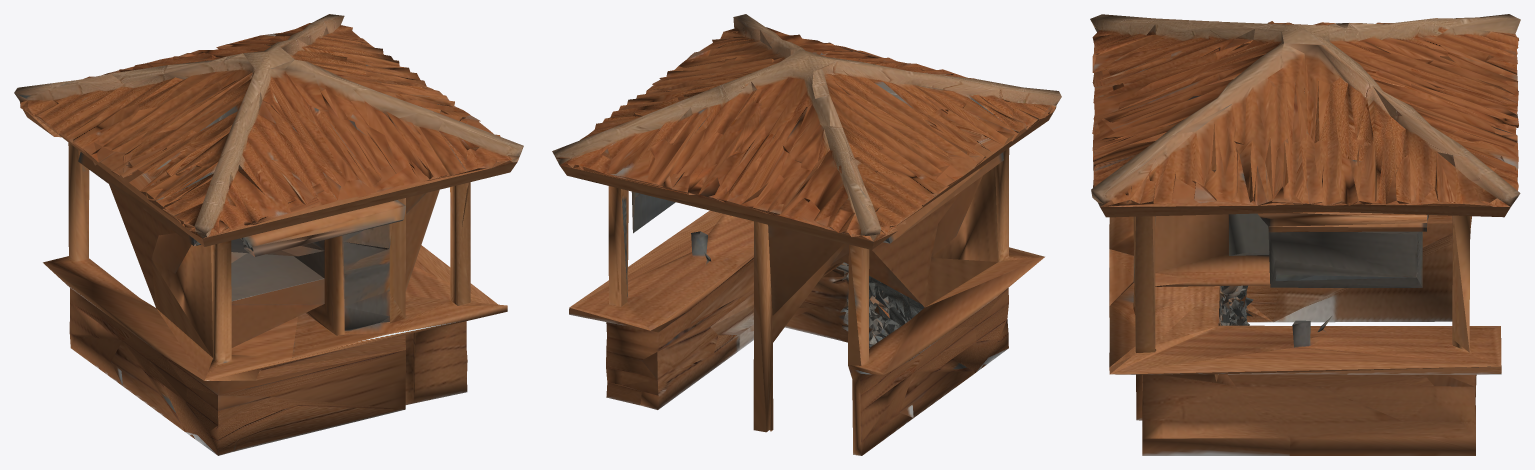
Rendered from quiosque-orla-bc__01a1b60e_LOD1.glb.
3 renders of one model, left to right at view 1: azimuth 30°, elevation 25°; view 2: azimuth 150°, elevation 25°; view 3: azimuth 270°, elevation 25°, orthographic. The views are drawn at different scales.
Parts seen in each view (by area): view 1: quiosque-orla-bc__01a1b60e_LOD1; view 2: quiosque-orla-bc__01a1b60e_LOD1; view 3: quiosque-orla-bc__01a1b60e_LOD1.
Boxes of the visible parts, bbox=[...] form: quiosque-orla-bc__01a1b60e_LOD1: bbox=[14, 14, 523, 455]; quiosque-orla-bc__01a1b60e_LOD1: bbox=[552, 14, 1061, 455]; quiosque-orla-bc__01a1b60e_LOD1: bbox=[1090, 14, 1520, 455].
Bounding box in the file's own units: 3.79 × 3.6 × 3.8.
1 material, 1 textured.
